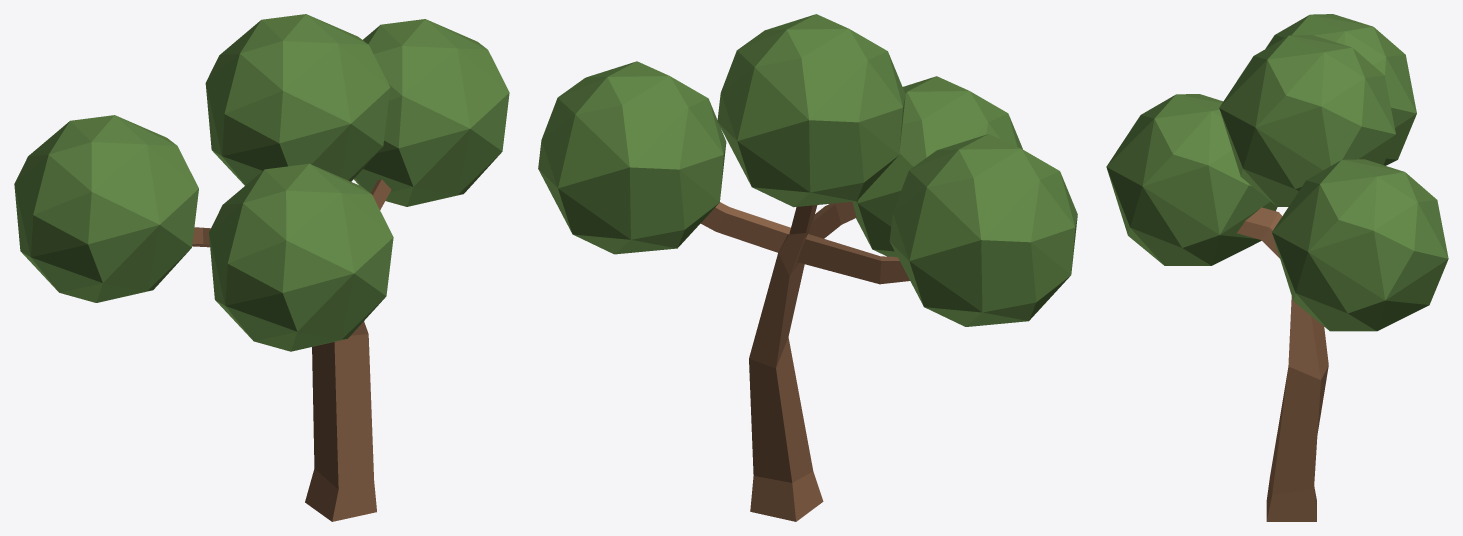
File: tree.glb
3 renders of one model, left to right at view 1: azimuth 30°, elevation 25°; view 2: azimuth 150°, elevation 25°; view 3: azimuth 270°, elevation 25°, orthographic. The views are drawn at different scales.
Parts seen in each view (by area): view 1: Sphere.001; view 2: Sphere.001; view 3: Sphere.001.
Boxes of the visible parts, box(x1,y1,x2,y2) form: Sphere.001: box(14, 14, 509, 521); Sphere.001: box(538, 14, 1077, 521); Sphere.001: box(1106, 14, 1448, 521).
Size of the model in its own units: 1155 by 1096 by 753.
